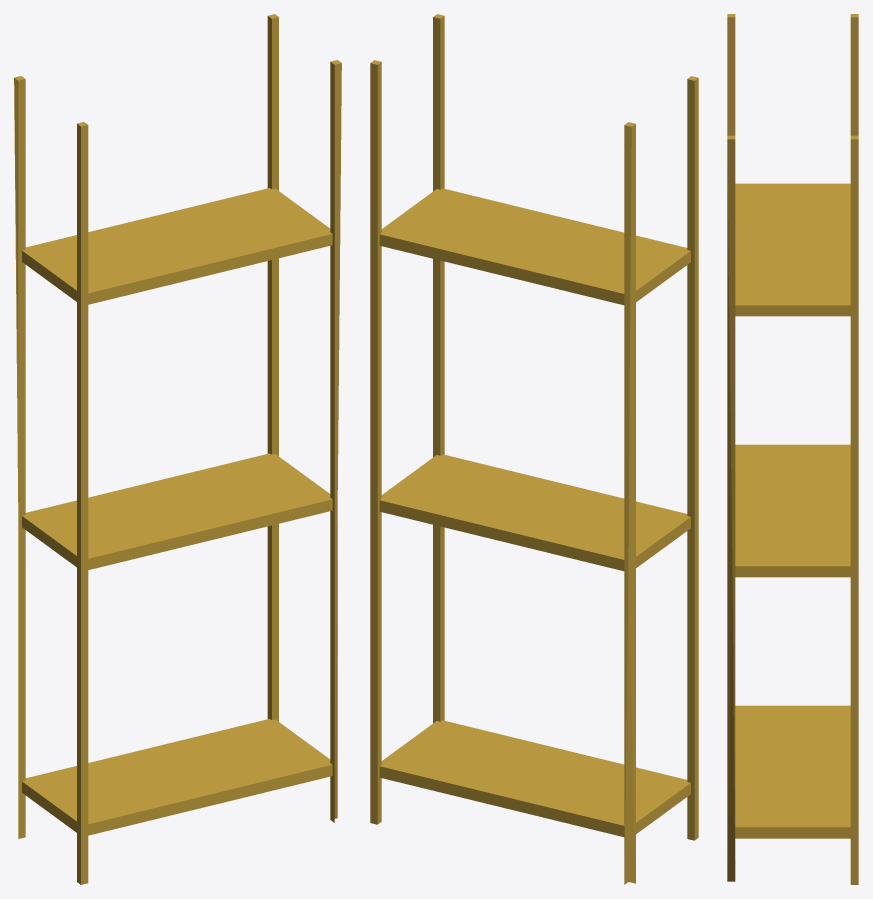
Rendered from shelfBig.fbx.
3 renders of one model, left to right at view 1: azimuth 30°, elevation 25°; view 2: azimuth 150°, elevation 25°; view 3: azimuth 270°, elevation 25°, orthographic.
Visible parts, largest first — view 1: shelfRack; view 2: shelfRack; view 3: shelfRack.
Part boxes in pixels (<box>): shelfRack: <box>14,14,341,884</box>; shelfRack: <box>370,14,698,884</box>; shelfRack: <box>727,14,858,884</box>.
Size of the model in its own units: 72 by 200 by 32.
